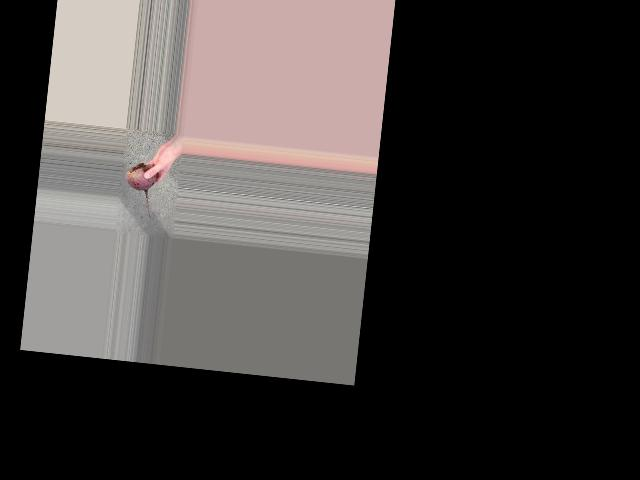beet: (121, 161, 157, 218)
